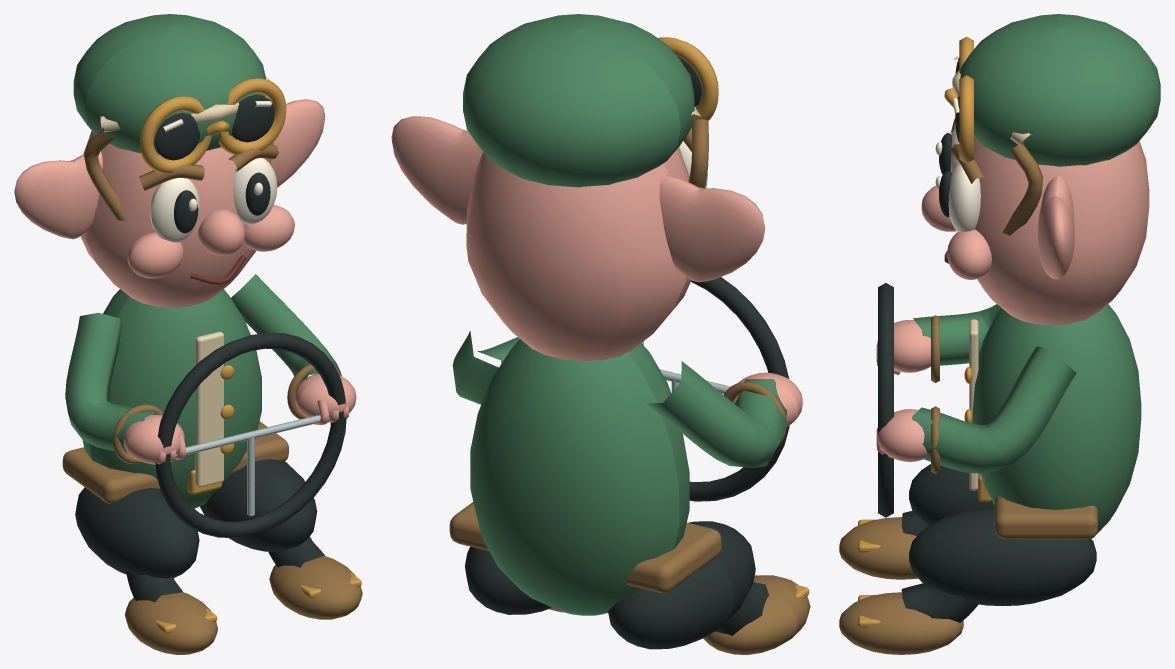
Rendered from lio-light.glb.
3 views of the same model, side by side, from view 1: azimuth 30°, elevation 25°; view 2: azimuth 150°, elevation 25°; view 3: azimuth 270°, elevation 25° (orthographic). The views are drawn at different scales.
Parts seen in each view (by area): view 1: green (×2), skin (×2), dark (×2), leather (×2), brass (×2), cream (×2), white, steel; view 2: green (×2), skin (×2), dark, leather (×2), brass; view 3: green (×2), skin (×2), dark (×2), leather (×2), brass (×2), white, cream.
Part boxes in pixels (x1=…): green (×2): x1=65, y1=14, x2=341, y2=508; skin (×2): x1=14, y1=99, x2=356, y2=464; dark (×2): x1=75, y1=95, x2=346, y2=602; leather (×2): x1=62, y1=128, x2=362, y2=654; brass (×2): x1=140, y1=78, x2=361, y2=633; cream (×2): x1=100, y1=76, x2=271, y2=487; white: x1=150, y1=101, x2=277, y2=242; steel: x1=176, y1=415, x2=330, y2=515; green (×2): x1=452, y1=14, x2=787, y2=615; skin (×2): x1=391, y1=116, x2=802, y2=426; dark: x1=464, y1=277, x2=789, y2=649; leather (×2): x1=449, y1=119, x2=810, y2=654; brass: x1=658, y1=37, x2=718, y2=128; green (×2): x1=912, y1=14, x2=1160, y2=538; skin (×2): x1=876, y1=136, x2=1149, y2=461; dark (×2): x1=878, y1=57, x2=1096, y2=622; leather (×2): x1=839, y1=118, x2=1097, y2=654; brass (×2): x1=858, y1=36, x2=991, y2=627; white: x1=935, y1=56, x2=980, y2=232; cream: x1=969, y1=319, x2=978, y2=490.
Size of the model in its own units: 0.37 by 0.6226 by 0.3106.
